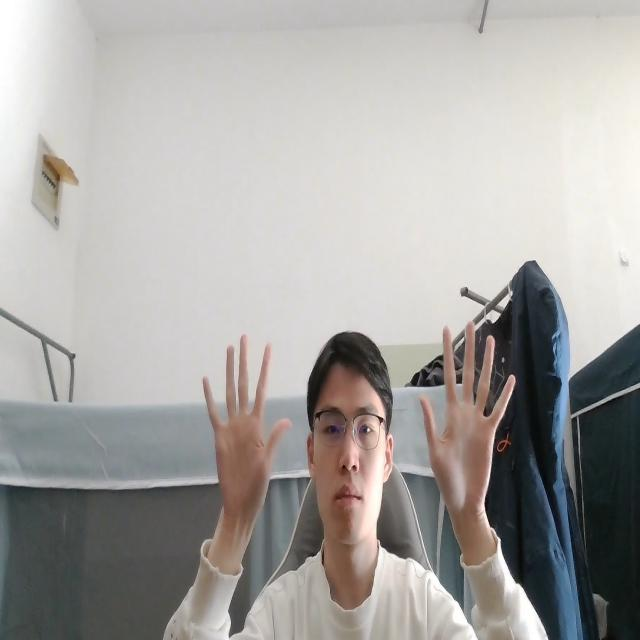five: (420, 317, 516, 522), (201, 328, 292, 531)
